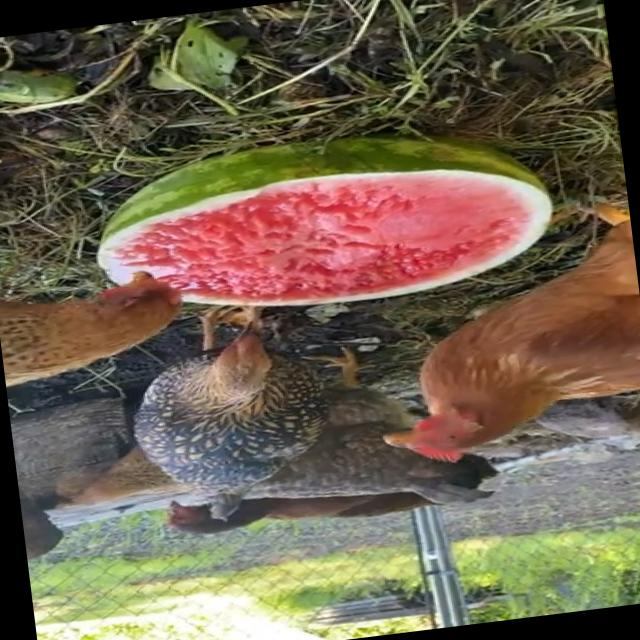feeding: (352, 207, 640, 487), (98, 290, 377, 526), (0, 284, 146, 383)
